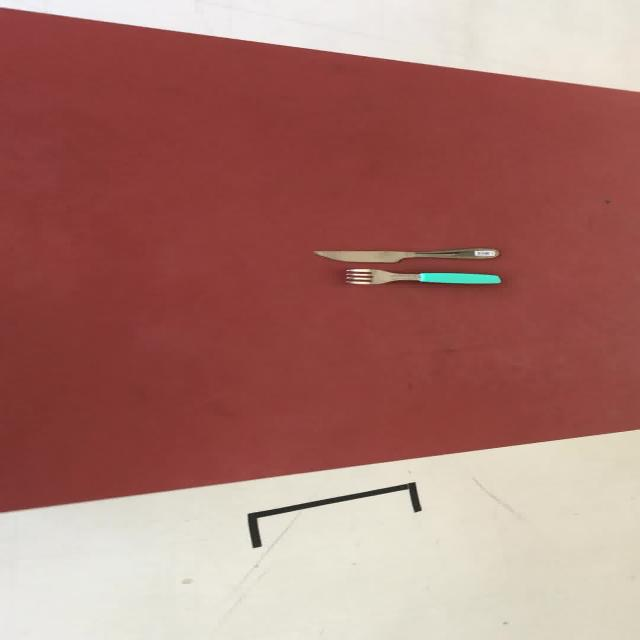fork: (342, 268, 500, 285)
knife fork: (311, 247, 498, 263), (343, 267, 501, 285)
